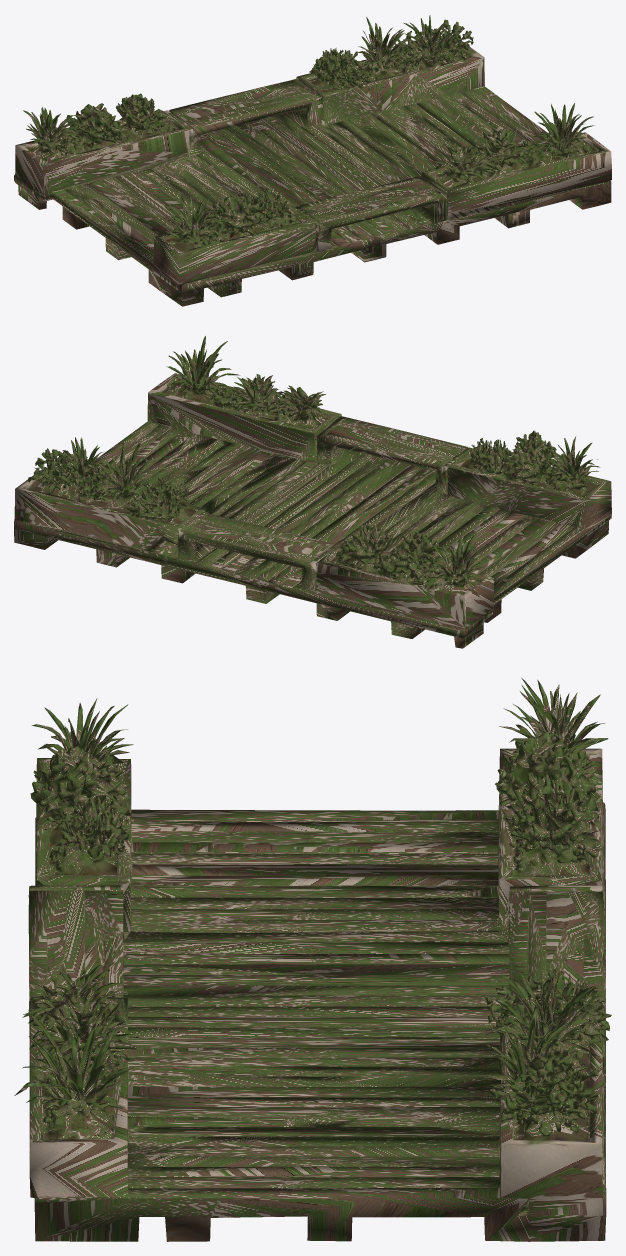
The model's file is deckbench.glb.
3 renders of one model, top to bottom at view 1: azimuth 30°, elevation 25°; view 2: azimuth 150°, elevation 25°; view 3: azimuth 270°, elevation 25°, orthographic. The views are drawn at different scales.
Bounding box in the file's own units: 1.9 × 0.4101 × 1.2.
Materials: 1 (1 with a texture image).
